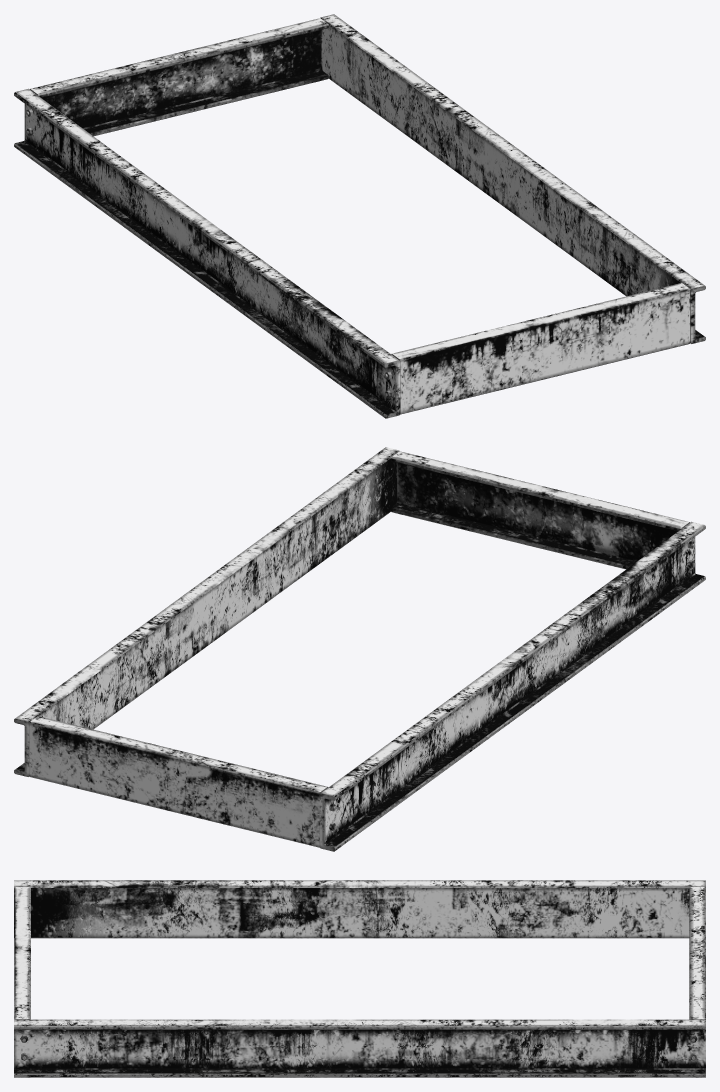
The model's file is sm_SteelCatwalks_01_02_200x100.fbx.
The picture shows the model from 3 angles, top to bottom: view 1: azimuth 30°, elevation 25°; view 2: azimuth 150°, elevation 25°; view 3: azimuth 270°, elevation 25°; orthographic projection. The views are drawn at different scales.
Parts seen in each view (by area): view 1: sm_SteelCatwalks_01_02_200x100_LOD0; view 2: sm_SteelCatwalks_01_02_200x100_LOD0; view 3: sm_SteelCatwalks_01_02_200x100_LOD0.
Part boxes in pixels (bbox=[...]): sm_SteelCatwalks_01_02_200x100_LOD0: bbox=[14, 14, 705, 418]; sm_SteelCatwalks_01_02_200x100_LOD0: bbox=[14, 447, 705, 851]; sm_SteelCatwalks_01_02_200x100_LOD0: bbox=[14, 880, 705, 1077].
Size of the model in its own units: 100 by 200 by 16.48.
